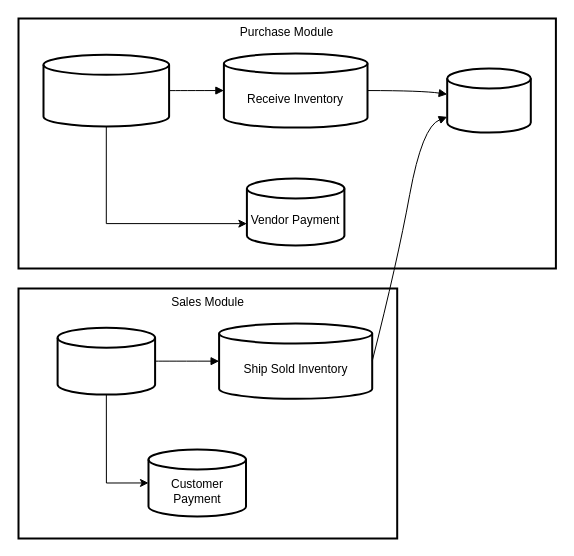
Some shapes in this 574 by 556 pixel diagram are drawn without their labels. Each missing label, with the centre of its shape:
Inventory: the point at 488,100
Purchase Order: the point at 106,90
Sales Order: the point at 106,360
